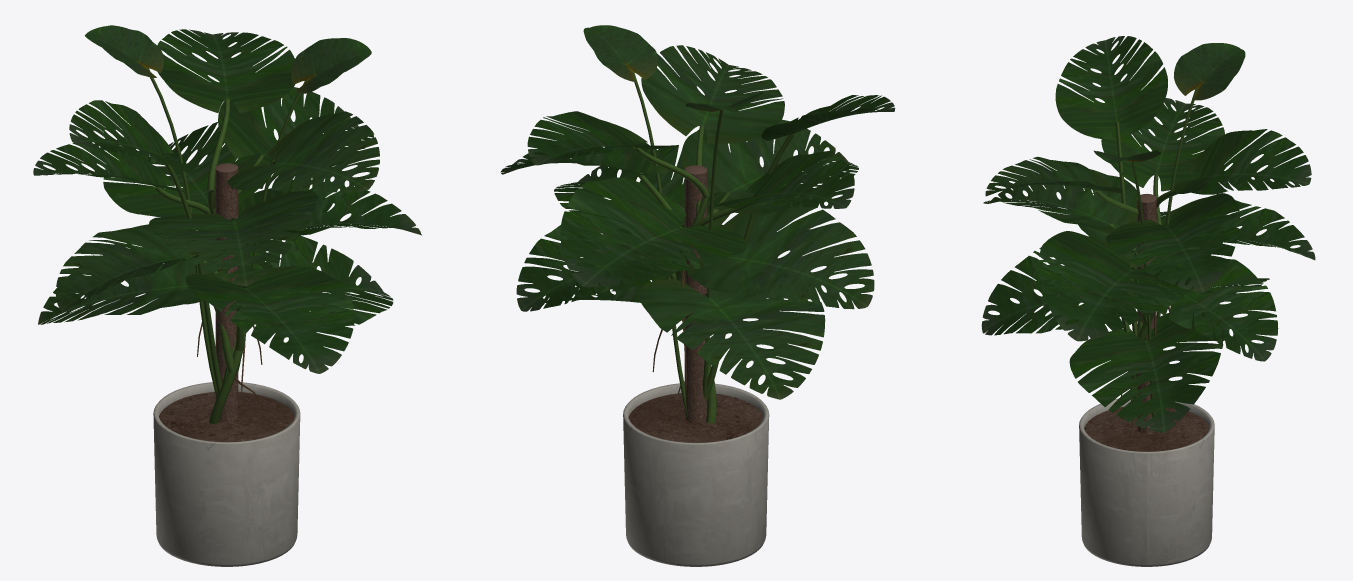
The model's file is monstera_150.glb.
The picture shows the model from 3 angles, left to right: view 1: azimuth 30°, elevation 25°; view 2: azimuth 150°, elevation 25°; view 3: azimuth 270°, elevation 25°; orthographic projection. The views are drawn at different scales.
Visible parts, largest first — view 1: monstera_150; view 2: monstera_150; view 3: monstera_150.
Part boxes in pixels (bbox=[...]): monstera_150: bbox=[33, 25, 421, 566]; monstera_150: bbox=[500, 25, 895, 566]; monstera_150: bbox=[981, 36, 1315, 566].
Size of the model in its own units: 1.2 by 1.5 by 1.15.
4 materials, 4 textured.
